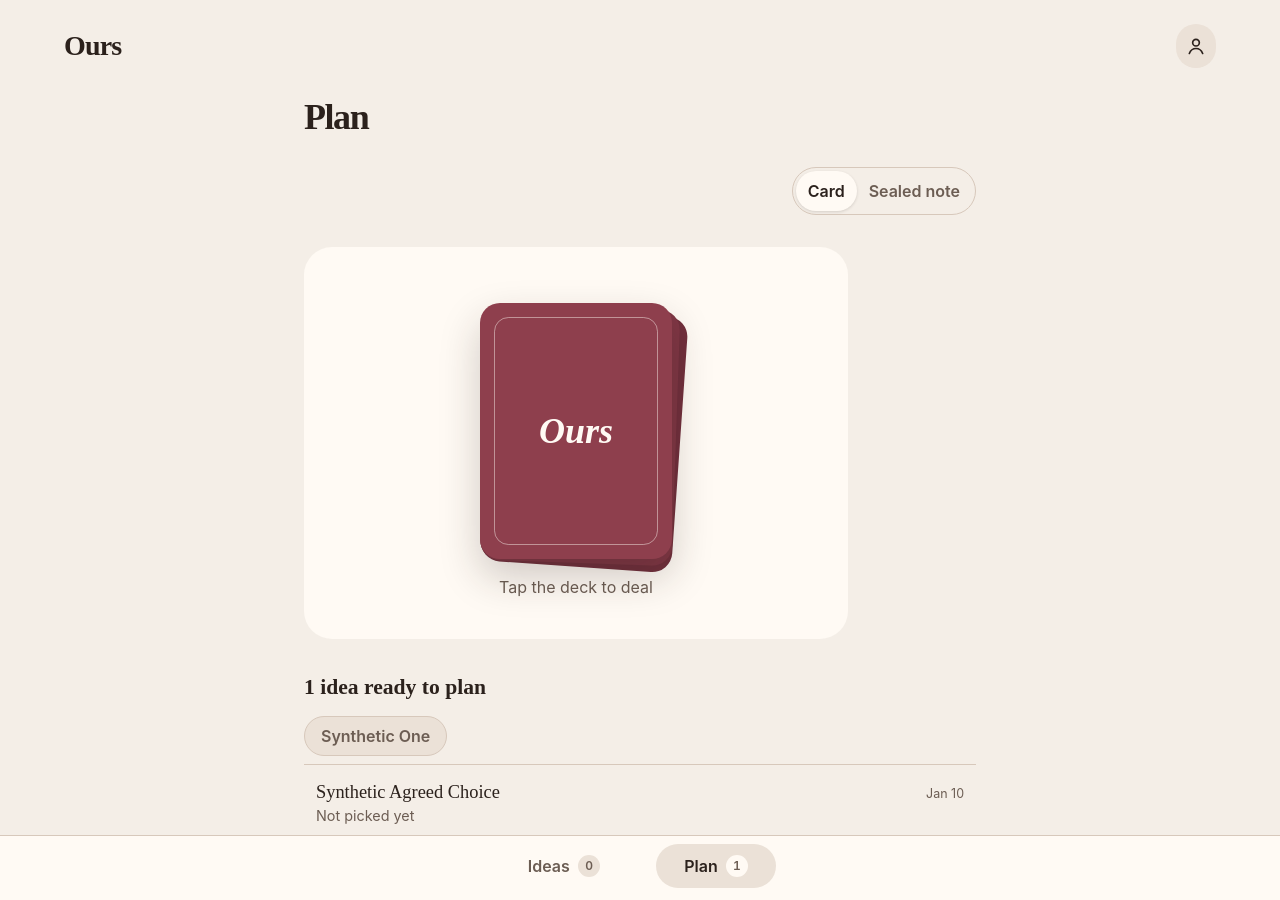
Scenario: Plan reveal › deals a card from all agreed ideas, with one primary action and a quiet way to pick again
Step 1. Click the button with aria-label "Deal a card" → (576, 431), box [480,303,672,559]
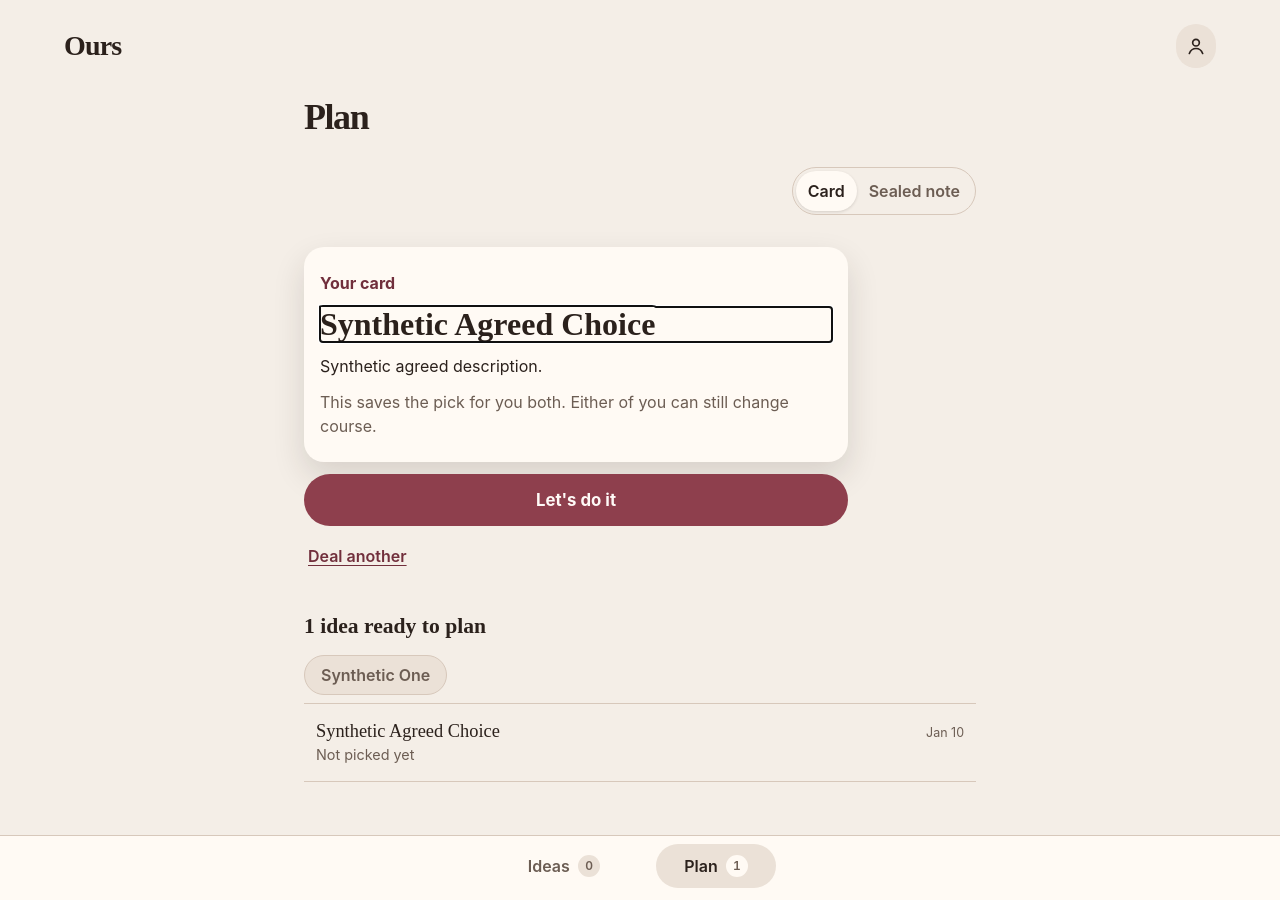
Now the heading "Synthetic Agreed Choice" is shown, box [320,306,655,342]
Now the text "Synthetic agreed description." is shown, box [320,356,542,376]
Now the text "This saves the pick for you both. Either of you can still change course." is shown, box [320,390,832,438]
